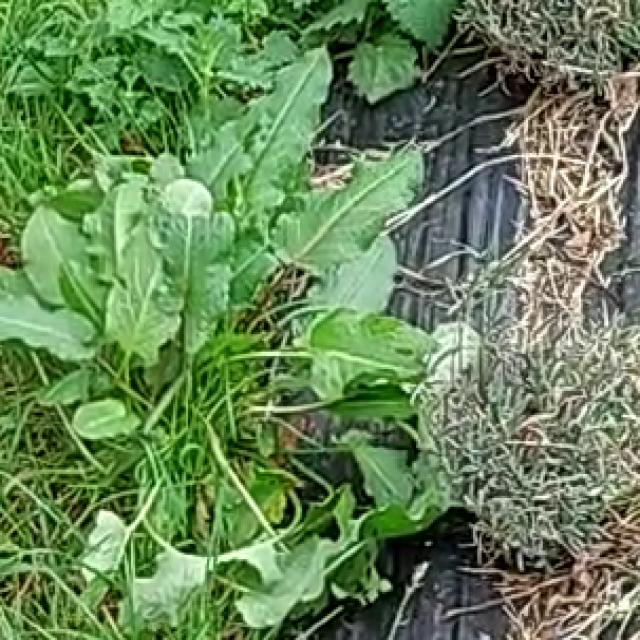organic waste: (17, 90, 465, 629)
